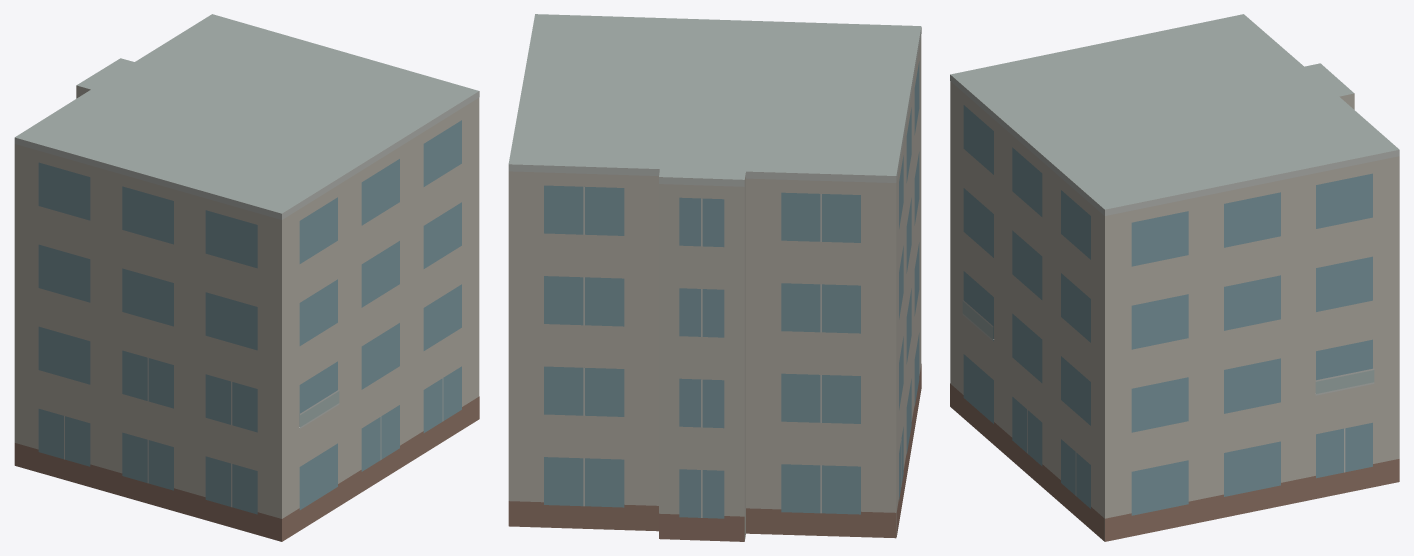
The model's file is survey-upis-32736487.glb.
3 views of the same model, side by side, from view 1: azimuth 30°, elevation 25°; view 2: azimuth 150°, elevation 25°; view 3: azimuth 270°, elevation 25° (orthographic). The views are drawn at different scales.
Parts seen in each view (by area): view 1: survey-upis-32736487.tmp; view 2: survey-upis-32736487.tmp; view 3: survey-upis-32736487.tmp.
Part boxes in pixels (<box>): survey-upis-32736487.tmp: <box>14,14,479,541</box>; survey-upis-32736487.tmp: <box>508,14,921,541</box>; survey-upis-32736487.tmp: <box>950,14,1399,541</box>.
Size of the model in its own units: 15.93 by 12.6 by 15.46.
